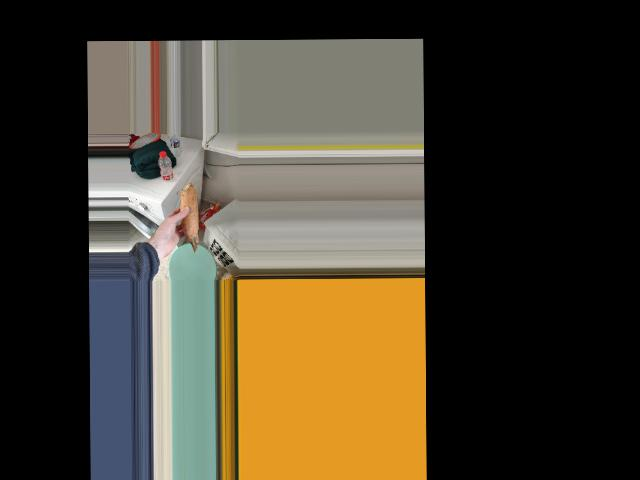sweet_potato: (177, 187, 200, 247)
